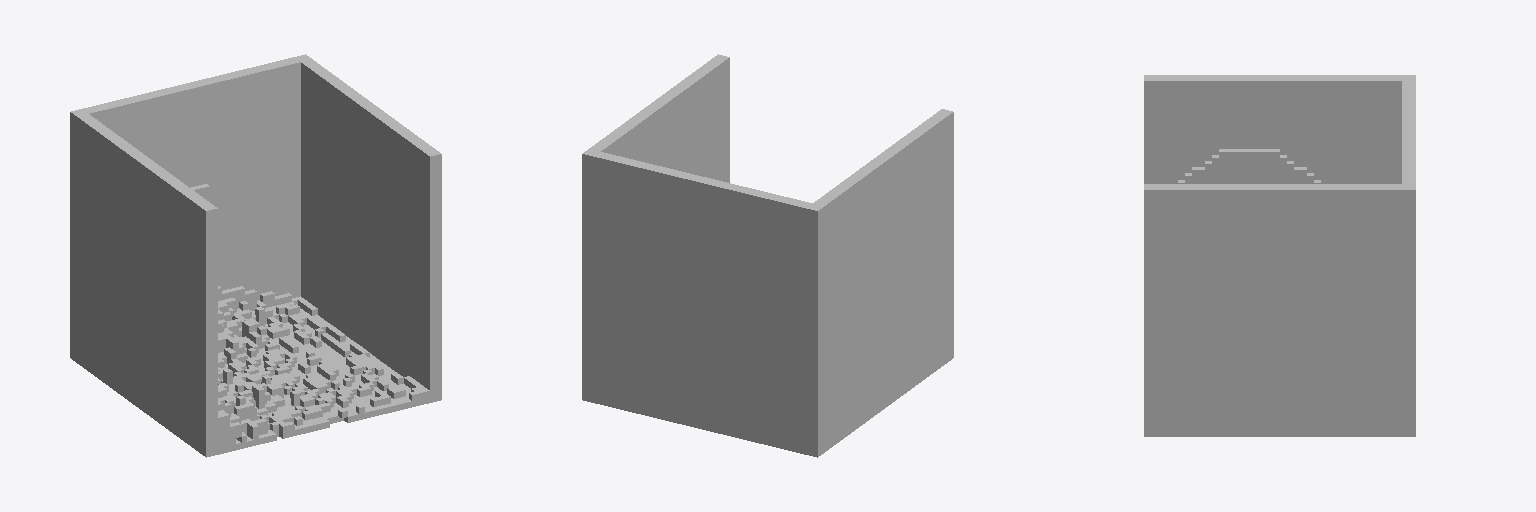
Rendered from the slow rush.obj.
The picture shows the model from 3 angles: view 1: azimuth 30°, elevation 25°; view 2: azimuth 150°, elevation 25°; view 3: azimuth 270°, elevation 25°; orthographic projection.
Visible parts, largest first — view 1: object 1; view 2: object 1; view 3: object 1.
Boxes of the visible parts, x1=… form: object 1: x1=70, y1=54, x2=441, y2=457; object 1: x1=582, y1=54, x2=953, y2=457; object 1: x1=1144, y1=75, x2=1415, y2=436.
Bounding box in the file's own units: 4 × 4 × 4.